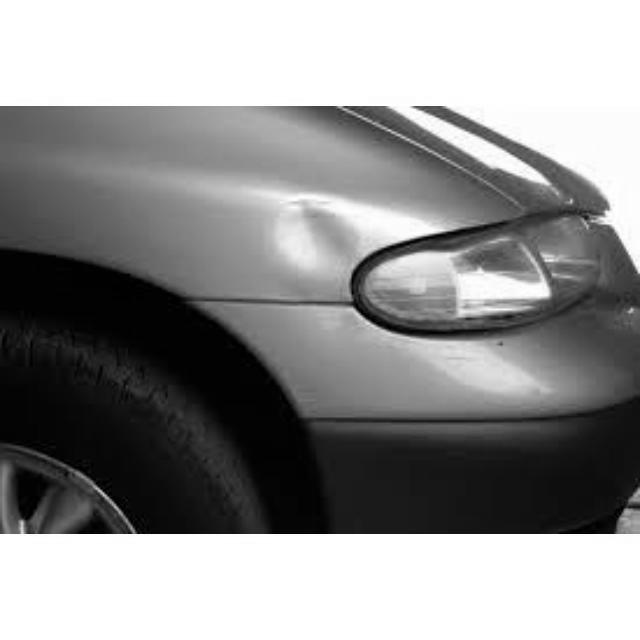fender-dent: (5, 127, 384, 387)
